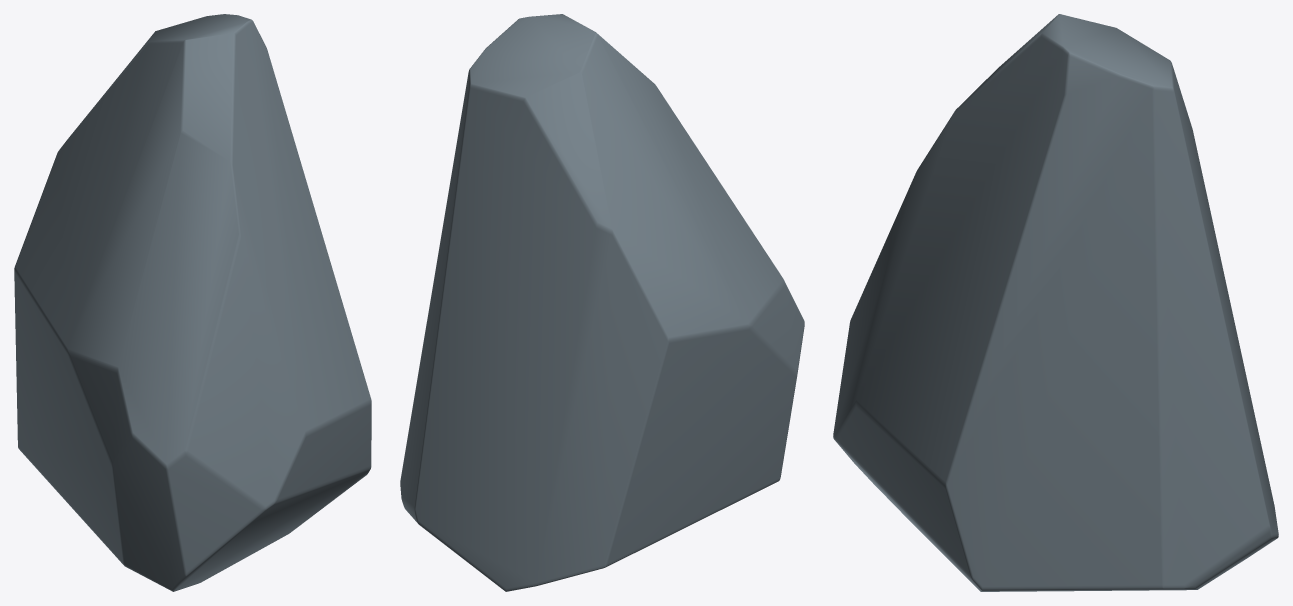
The model's file is Rock5-col.glb.
The picture shows the model from 3 angles, left to right: view 1: azimuth 30°, elevation 25°; view 2: azimuth 150°, elevation 25°; view 3: azimuth 270°, elevation 25°; orthographic projection. The views are drawn at different scales.
Parts seen in each view (by area): view 1: Rock5-col; view 2: Rock5-col; view 3: Rock5-col.
Part boxes in pixels (x1,y1,x2,y2): Rock5-col: [14, 14, 371, 591]; Rock5-col: [400, 14, 804, 591]; Rock5-col: [833, 14, 1278, 591].
Bounding box in the file's own units: 0.9358 × 1.54 × 1.14.
